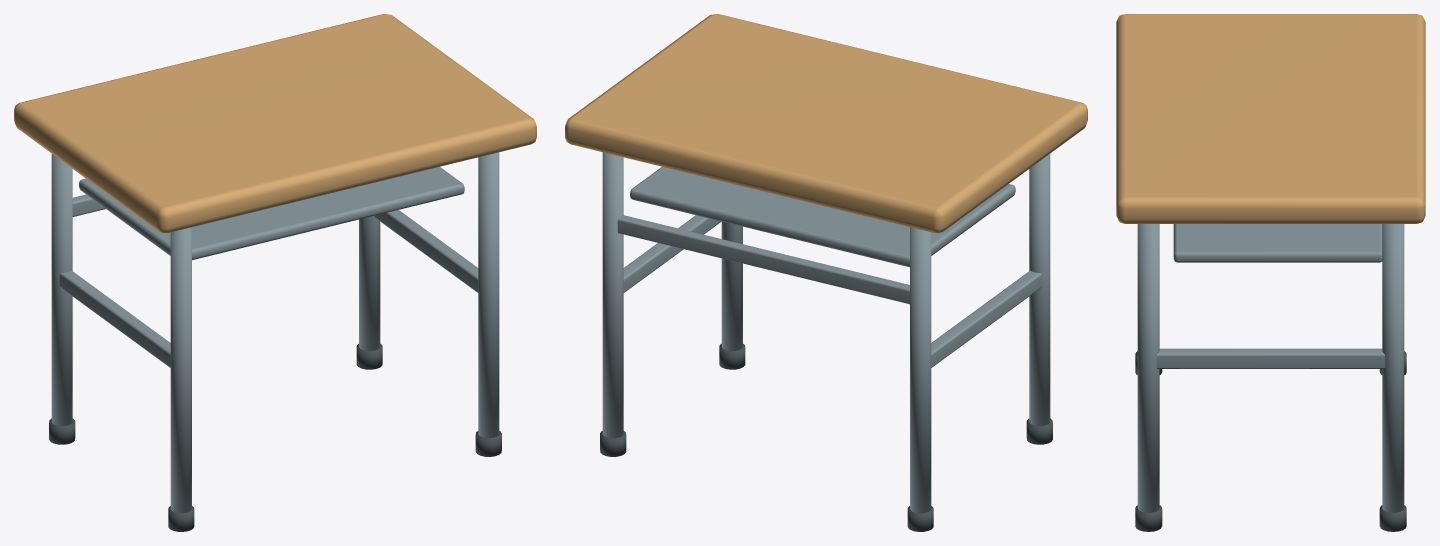
The model's file is desk.glb.
3 renders of one model, left to right at view 1: azimuth 30°, elevation 25°; view 2: azimuth 150°, elevation 25°; view 3: azimuth 270°, elevation 25°, orthographic. The views are drawn at different scales.
Visible parts, largest first — view 1: Desk_LandingTop, Desk_BookShelf, Desk_Leg, Desk_Leg.002, Desk_Leg.001, Desk_Leg.003, Desk_SideBrace, Desk_SideBrace.001; view 2: Desk_LandingTop, Desk_BookShelf, Desk_Leg.001, Desk_Leg.003, Desk_RearBrace, Desk_Leg, Desk_SideBrace, Desk_Leg.002, Desk_SideBrace.001; view 3: Desk_LandingTop, Desk_BookShelf, Desk_Leg.002, Desk_Leg.003, Desk_SideBrace.001, Desk_Foot.002, Desk_Foot.003.
Boxes of the visible parts, x1,y1,x2,y2 form: Desk_LandingTop: [14, 14, 536, 233]; Desk_BookShelf: [79, 166, 464, 260]; Desk_Leg: [170, 227, 191, 513]; Desk_Leg.002: [478, 152, 499, 438]; Desk_Leg.001: [51, 154, 72, 425]; Desk_Leg.003: [359, 216, 380, 350]; Desk_SideBrace: [59, 270, 170, 367]; Desk_SideBrace.001: [373, 210, 478, 292]; Desk_LandingTop: [565, 14, 1087, 233]; Desk_BookShelf: [630, 166, 1015, 267]; Desk_Leg.001: [910, 227, 931, 513]; Desk_Leg.003: [602, 152, 623, 438]; Desk_RearBrace: [617, 215, 910, 304]; Desk_Leg: [1029, 154, 1050, 425]; Desk_SideBrace: [931, 270, 1042, 367]; Desk_Leg.002: [721, 221, 742, 350]; Desk_SideBrace.001: [623, 215, 721, 292]; Desk_LandingTop: [1116, 14, 1425, 223]; Desk_BookShelf: [1173, 224, 1382, 262]; Desk_Leg.002: [1137, 224, 1159, 512]; Desk_Leg.003: [1382, 224, 1404, 512]; Desk_SideBrace.001: [1156, 348, 1385, 368]; Desk_Foot.002: [1135, 505, 1162, 531]; Desk_Foot.003: [1379, 505, 1406, 531].
Bounding box in the file's own units: 0.9 × 0.76 × 0.62.
